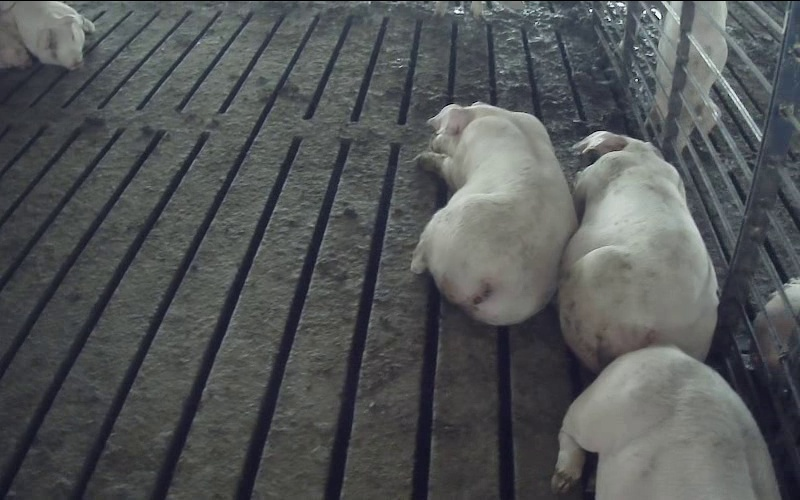pig: (559, 132, 716, 371), (411, 103, 576, 325), (552, 346, 779, 499)
